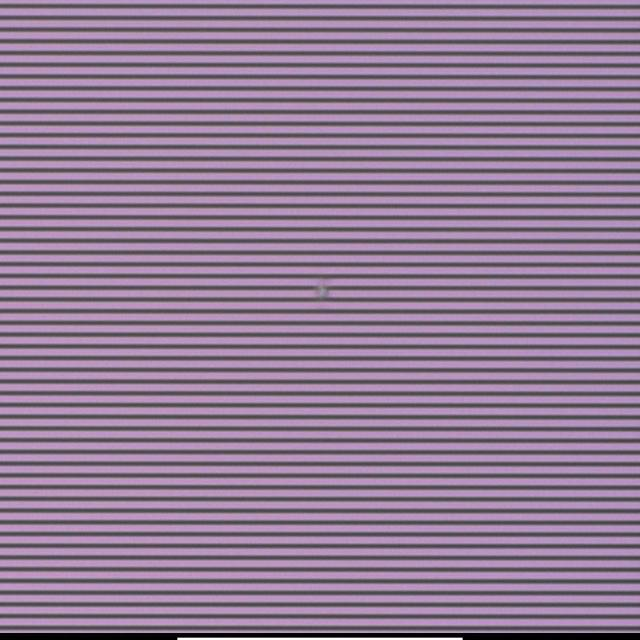nonvisual: (312, 274, 331, 302)
